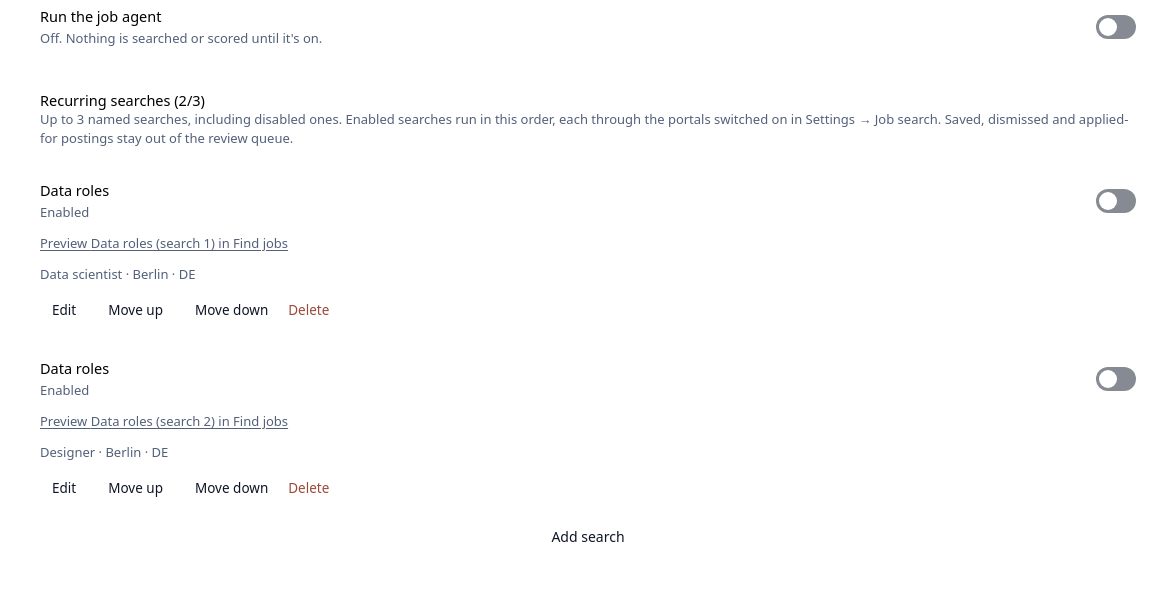
Scenario: Settings → Job agent › allows duplicate names and distinguishes their accessible controls by position
This screenshot has width=1164, height=601.
expect the switch named "Data roles (search 1)" is shown: met, box [1096,189,1136,213]
expect the switch named "Data roles (search 2)" is shown: met, box [1096,367,1136,391]
Click the button with aria-label "Move up: Data roles (search 2)" at (136, 489), box [96,474,175,504]
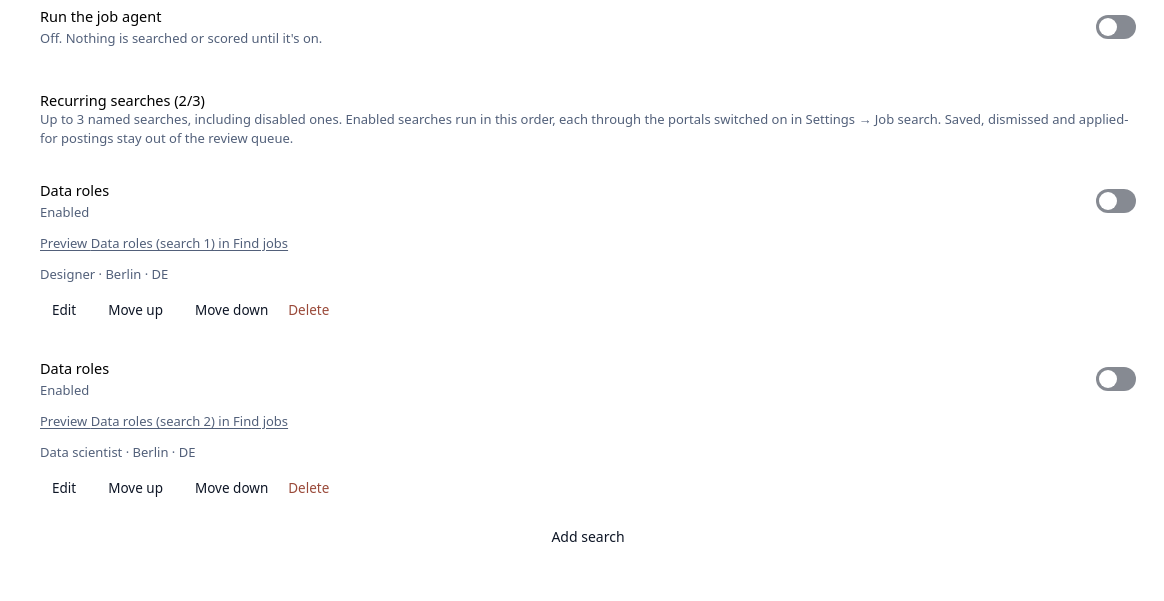
Click the button with aria-label "Edit Data roles (search 1)" at (64, 311), box [40,296,88,326]
(page scrolled)
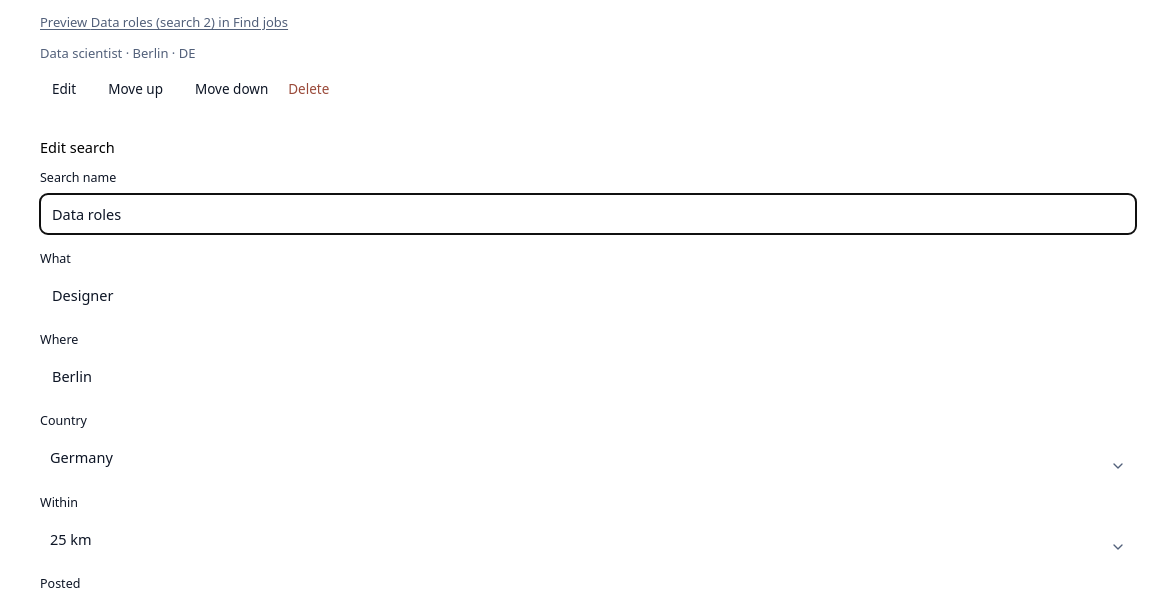
expect the field labelled "What" holds "Designer": met, box [40,275,1136,315]
